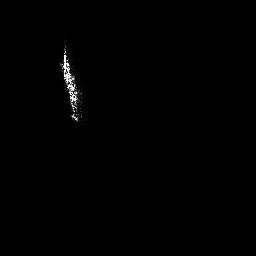ship: (58, 46, 82, 122)
